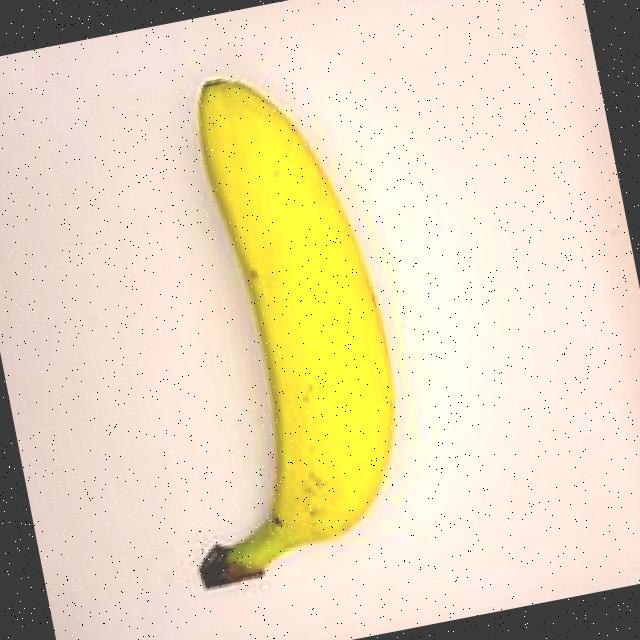Ripe: (58, 22, 471, 611)
